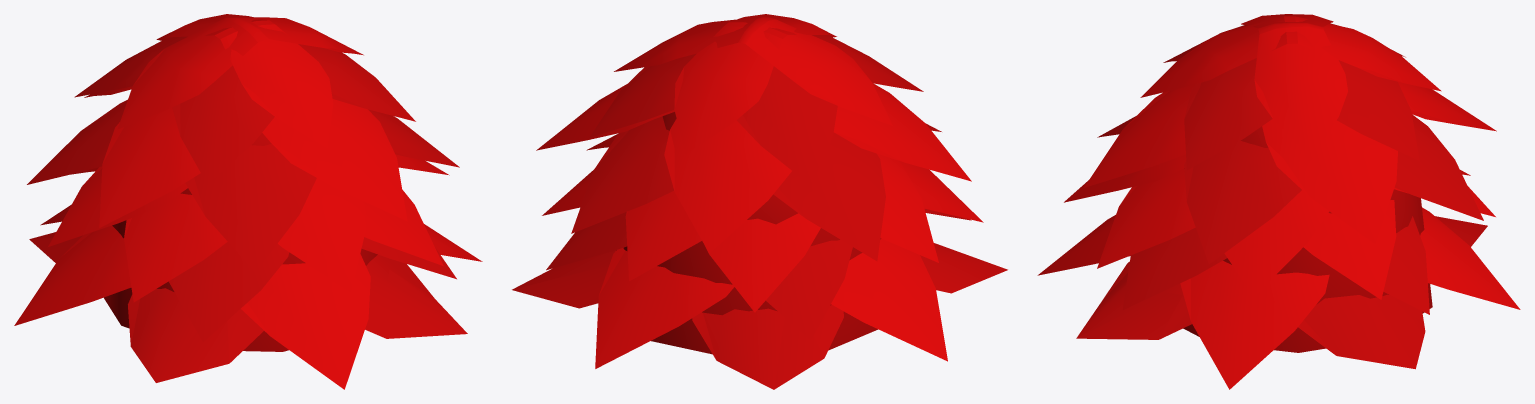
Rendered from Bush_Leafy.fbx.
The picture shows the model from 3 angles, left to right: view 1: azimuth 30°, elevation 25°; view 2: azimuth 150°, elevation 25°; view 3: azimuth 270°, elevation 25°; orthographic projection.
Visible parts, largest first — view 1: Bush_Leafy; view 2: Bush_Leafy; view 3: Bush_Leafy.
Boxes of the visible parts, x1,y1,x2,y2 form: Bush_Leafy: (14, 14, 482, 389); Bush_Leafy: (512, 14, 1007, 389); Bush_Leafy: (1037, 14, 1520, 389).
Size of the model in its own units: 99.15 by 99.88 by 60.86.
